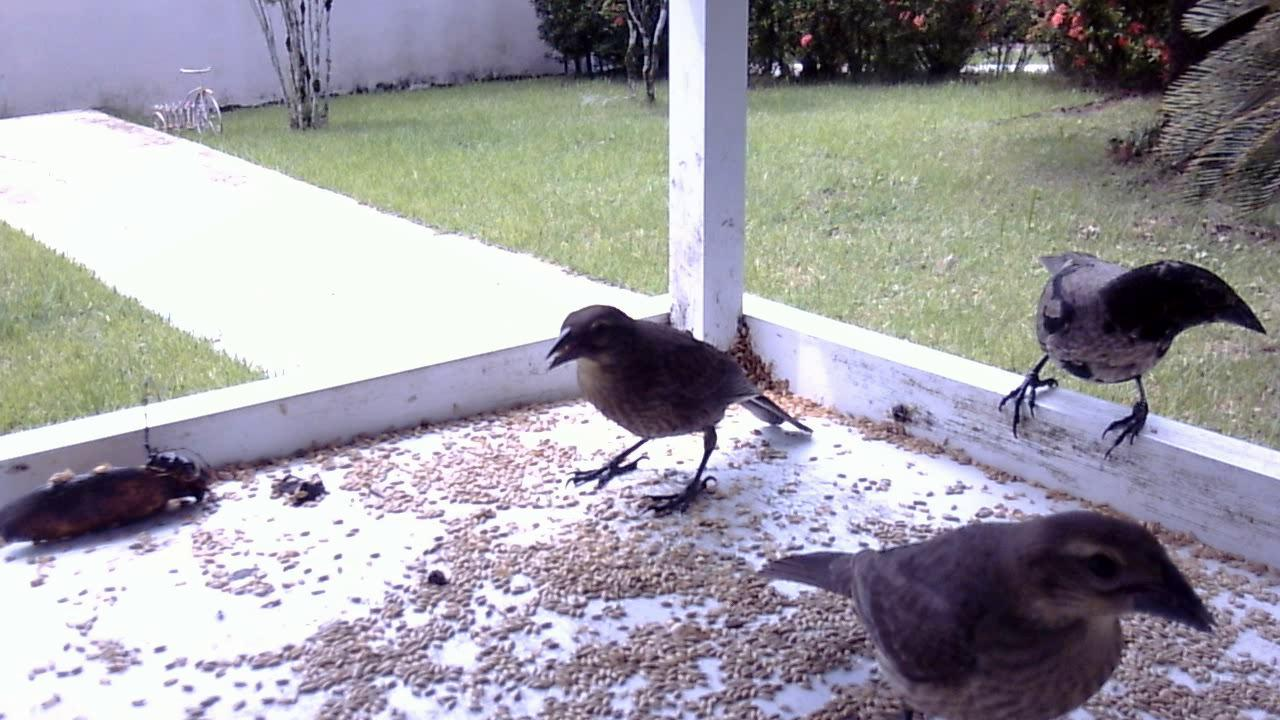chupim: (745, 483, 1231, 720), (535, 291, 826, 526), (993, 244, 1268, 472)
